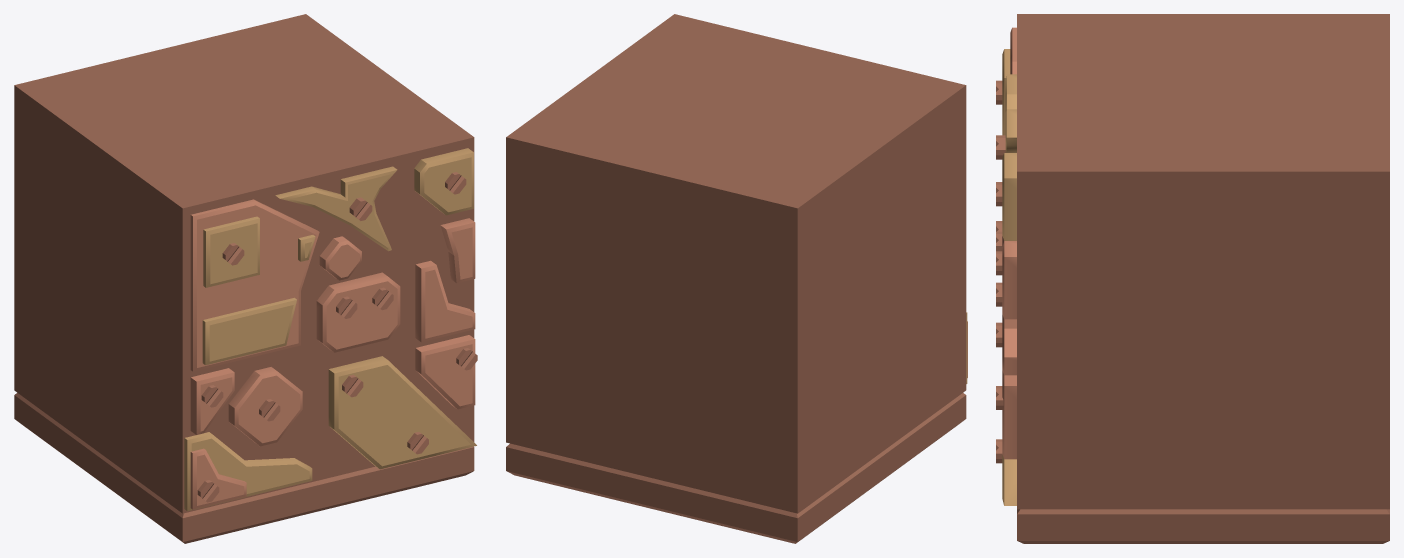
File: BigSkyEngineV1.fbx
The picture shows the model from 3 angles, left to right: view 1: azimuth 30°, elevation 25°; view 2: azimuth 150°, elevation 25°; view 3: azimuth 270°, elevation 25°; orthographic projection. The views are drawn at different scales.
Visible parts, largest first — view 1: Cube, Cube.016, Cube.006, Cube.004, Cube.012, Cube.007, Cube.003, Cube.011, Plane, Cube.001, Cube.010, Cube.013 (+5 smaller); view 2: Cube, Cube.016; view 3: Cube, Cube.016, Cube.005, Cube.010, Cube.009, Plane, Cube.013, Cube.004, Cube.001.
Boxes of the visible parts, left/top/right/bottom form: Cube: left=14, top=14, right=474, bottom=513; Cube.016: left=14, top=393, right=474, bottom=543; Cube.006: left=190, top=199, right=319, bottom=371; Cube.004: left=328, top=356, right=476, bottom=469; Cube.012: left=316, top=272, right=400, bottom=352; Cube.007: left=202, top=297, right=296, bottom=365; Cube.003: left=184, top=432, right=312, bottom=511; Cube.011: left=228, top=367, right=302, bottom=446; Plane: left=275, top=166, right=397, bottom=251; Cube.001: left=203, top=216, right=259, bottom=287; Cube.010: left=415, top=335, right=475, bottom=409; Cube.013: left=415, top=260, right=475, bottom=342; Cube: left=506, top=14, right=966, bottom=513; Cube.016: left=506, top=393, right=966, bottom=543; Cube: left=1017, top=14, right=1389, bottom=509; Cube.016: left=1017, top=509, right=1389, bottom=543; Cube.005: left=1002, top=153, right=1016, bottom=240; Cube.010: left=1002, top=370, right=1016, bottom=459; Cube.009: left=1002, top=241, right=1016, bottom=319; Plane: left=1005, top=74, right=1016, bottom=152; Cube.013: left=1002, top=315, right=1016, bottom=375; Cube.004: left=1002, top=455, right=1016, bottom=505; Cube.001: left=1002, top=49, right=1010, bottom=135.
Size of the model in its own units: 1000 by 1111 by 1056.
